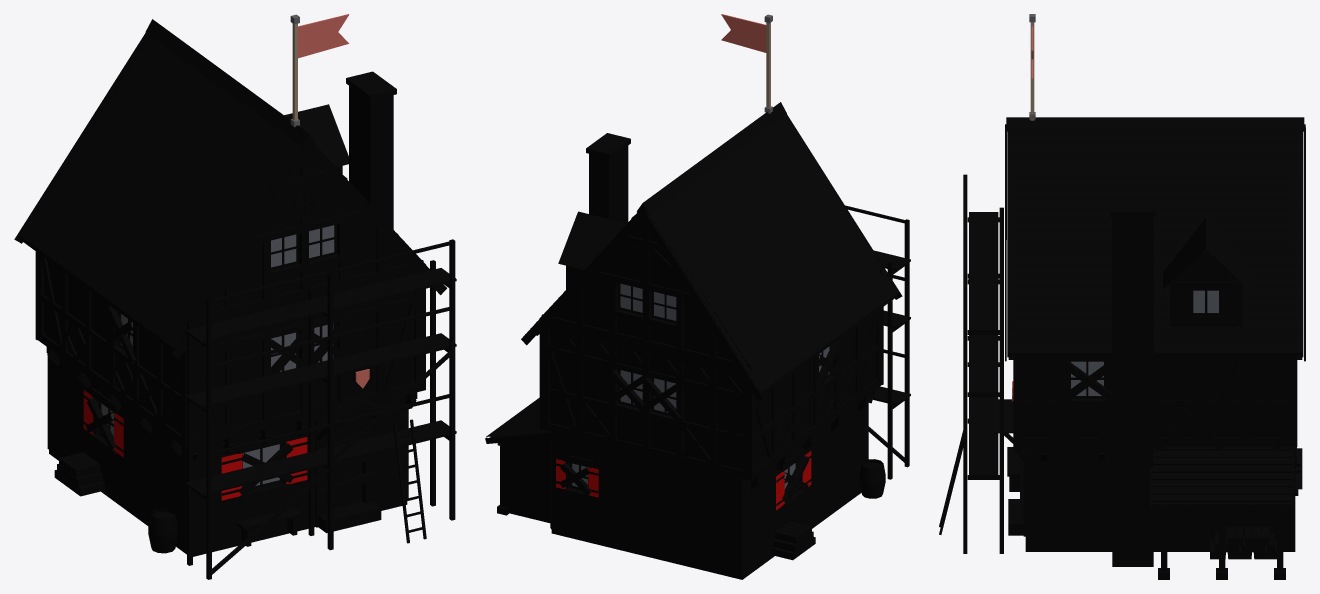
The model's file is wohnhaus_halbling_s2_g3.glb.
3 views of the same model, side by side, from view 1: azimuth 30°, elevation 25°; view 2: azimuth 150°, elevation 25°; view 3: azimuth 270°, elevation 25° (orthographic). The views are drawn at different scales.
Visible parts, largest first — view 1: Haus, Dach, Geruest, Leerstand, Scheiben, Fahne; view 2: Haus, Dach, Geruest, Leerstand, Scheiben, Fahne; view 3: Dach, Haus, Geruest, Leerstand, Scheiben, Fahne.
Part boxes in pixels (box(x1,y1,x2,y2)): Haus: box(35, 36, 425, 556); Dach: box(14, 19, 446, 358); Geruest: box(185, 239, 456, 579); Leerstand: box(86, 306, 374, 498); Scheiben: box(101, 225, 334, 485); Fahne: box(290, 14, 349, 127); Haus: box(497, 117, 885, 579); Dach: box(485, 102, 902, 443); Geruest: box(845, 205, 910, 479); Leerstand: box(559, 338, 843, 502); Scheiben: box(572, 283, 829, 489); Fahne: box(721, 14, 772, 113); Dach: box(1005, 117, 1305, 507); Haus: box(993, 132, 1298, 579); Geruest: box(939, 174, 1003, 553); Leerstand: box(1008, 357, 1302, 502); Scheiben: box(1071, 290, 1218, 395); Fahne: box(1029, 14, 1035, 120).
Bounding box in the file's own units: 7.73 × 11.75 × 8.03.
